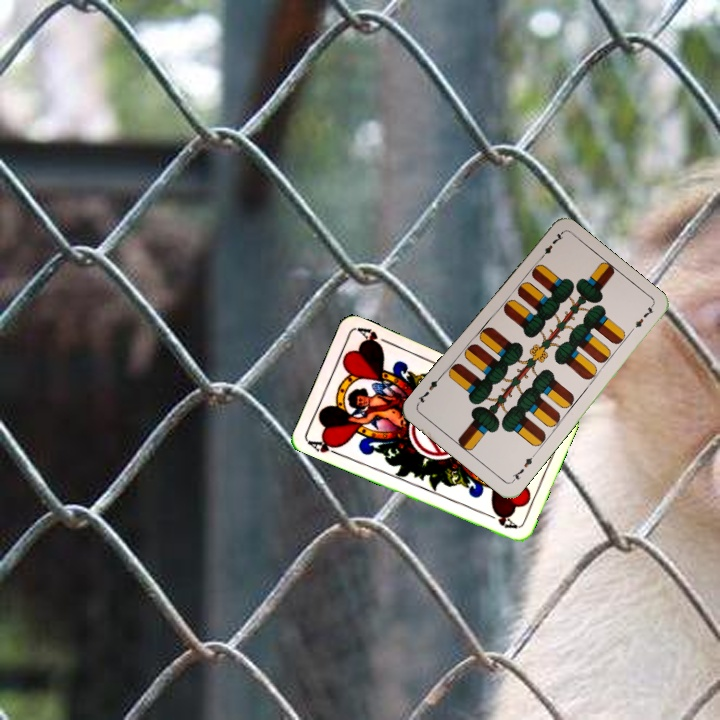E7: (534, 229, 566, 263), (508, 450, 537, 485)
HA: (304, 434, 344, 458)
